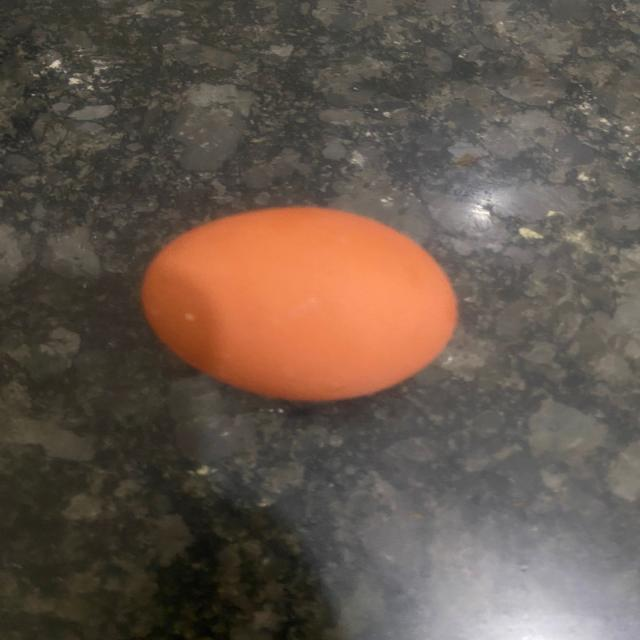Egg: (133, 198, 471, 405)
